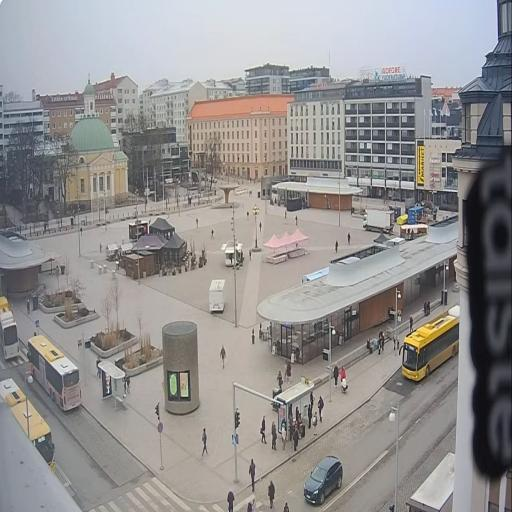bus: (2, 371, 56, 474), (25, 324, 84, 418), (394, 302, 460, 386), (0, 293, 22, 362)
car: (303, 453, 343, 509), (208, 174, 218, 184), (202, 174, 208, 182)
delivery: (361, 206, 396, 234), (192, 171, 202, 184)
